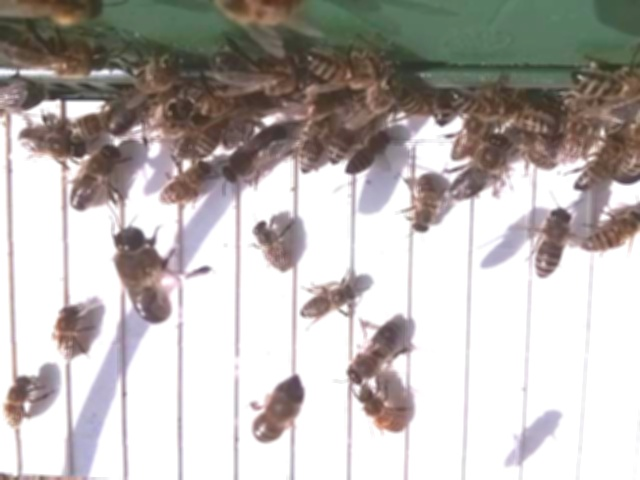Drone: (106, 222, 180, 327), (213, 121, 295, 191), (446, 131, 512, 208), (344, 316, 404, 388), (65, 144, 124, 217), (13, 125, 88, 164)
Worker: (246, 374, 306, 449), (531, 204, 574, 284), (155, 158, 214, 210), (354, 382, 407, 439), (582, 204, 640, 255), (250, 219, 294, 279), (297, 280, 359, 322), (408, 169, 442, 241), (0, 371, 38, 432), (343, 129, 389, 177), (49, 303, 82, 368), (298, 116, 327, 181)
